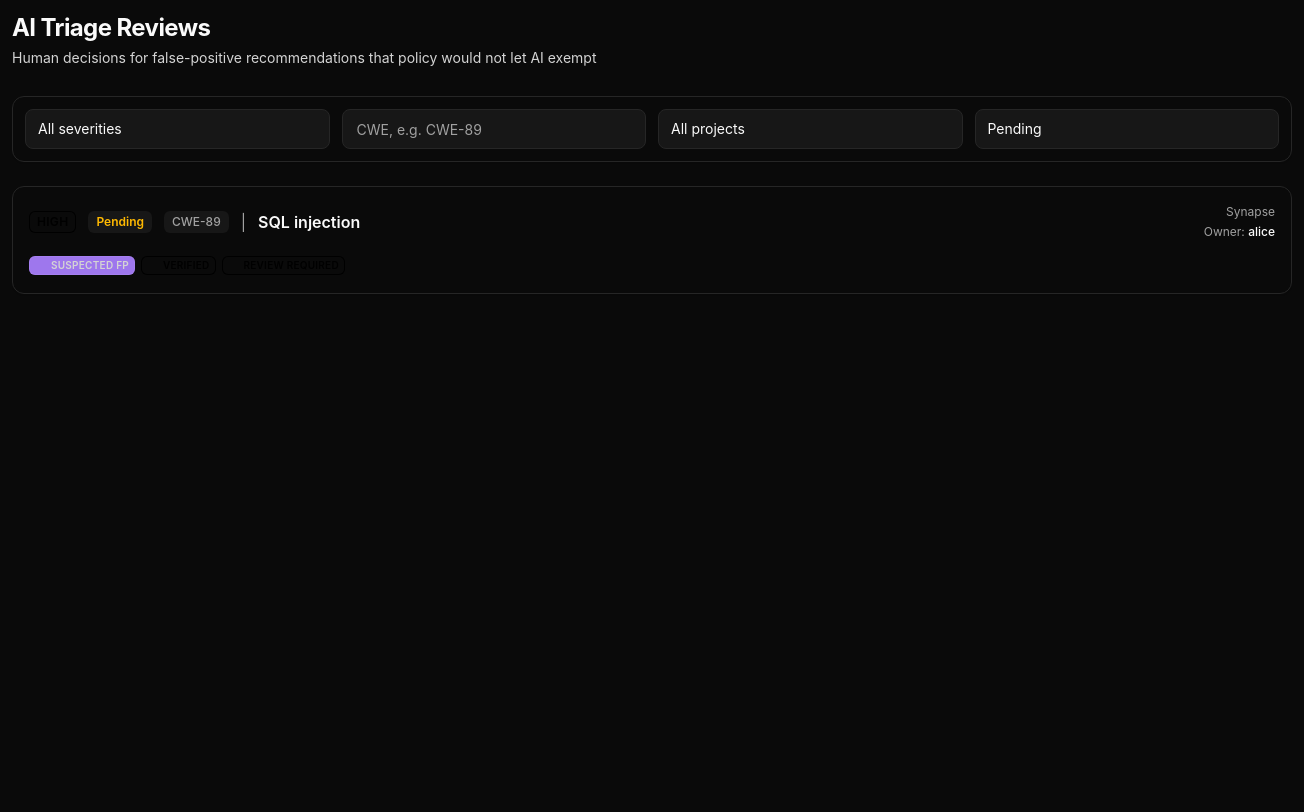
Test case: AITriageReviews › does not allow an authorized reviewer to take over another owner
Expected: the heading "SQL injection" is shown, [258,210,360,234]
What coordinates should you click on to do the following:
click the button "SQL injection"
I would click on:
 (53, 222)
Its box is [13,187,1291,293].
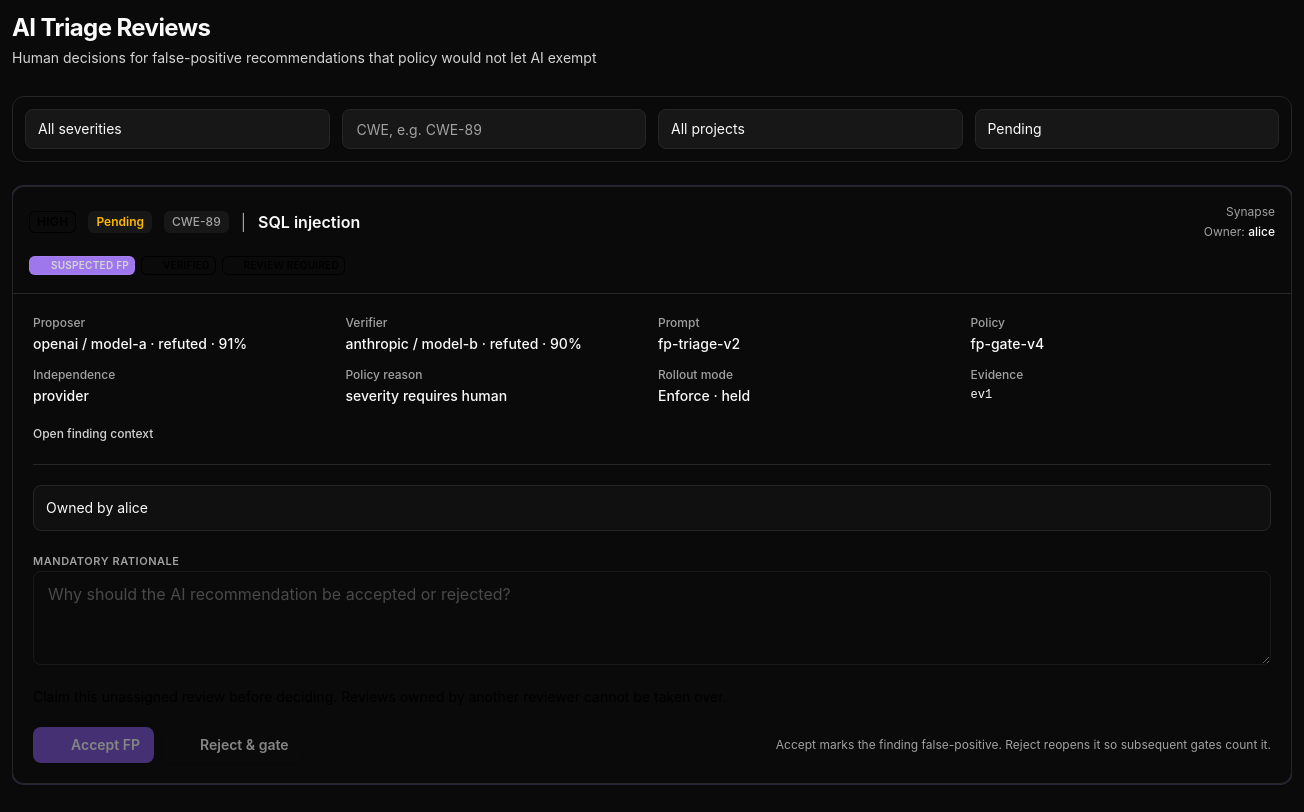
Now the button "Accept FP" is disabled, box [33,727,154,763]
